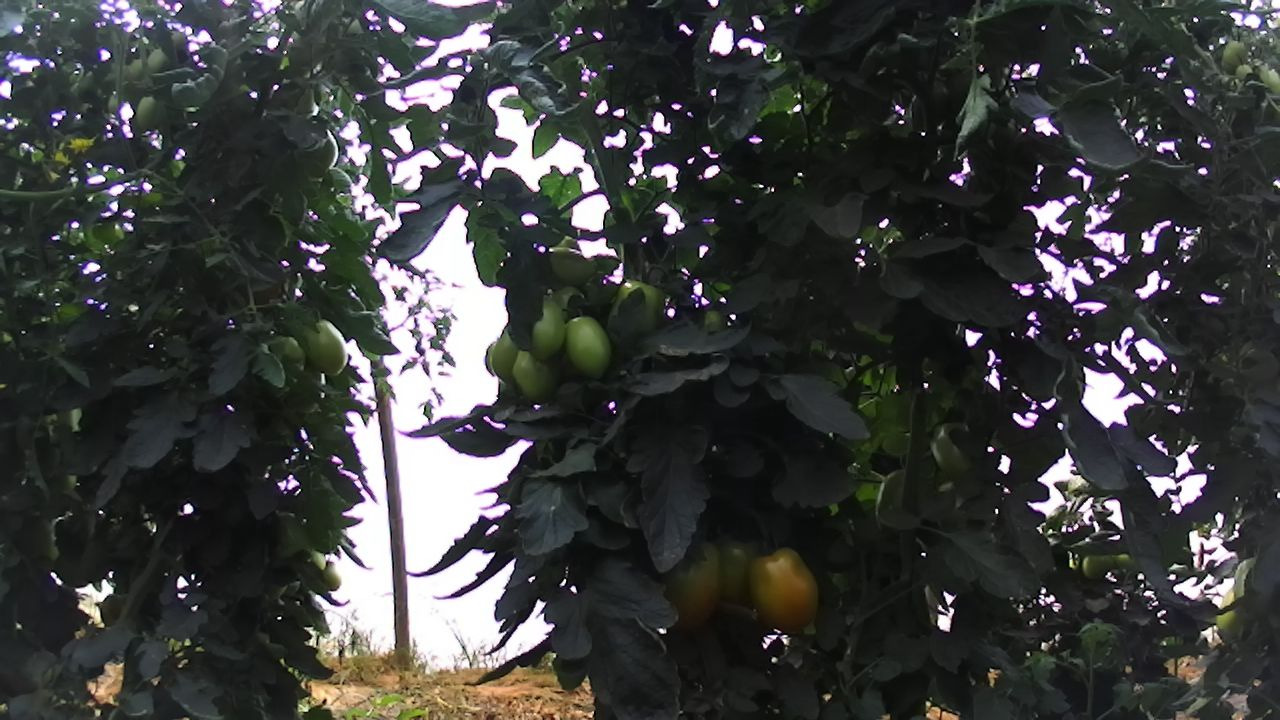tomato: (654, 534, 729, 639), (742, 541, 821, 638), (562, 311, 615, 382), (300, 314, 351, 379), (529, 291, 568, 365)
